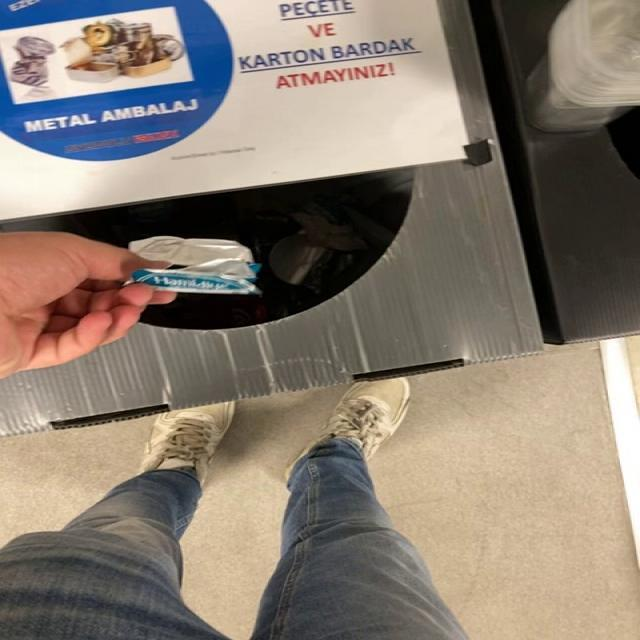Bin: (0, 0, 543, 436)
Metal: (128, 236, 261, 294), (129, 236, 261, 294)
